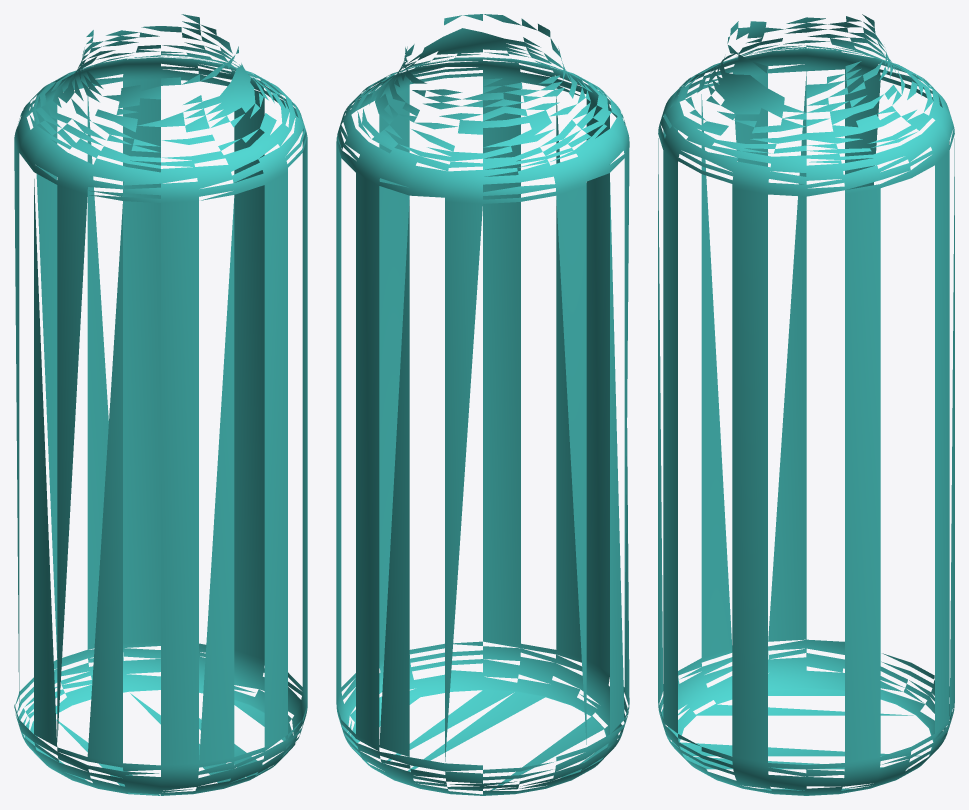
3 views of the same model, side by side, from view 1: azimuth 30°, elevation 25°; view 2: azimuth 150°, elevation 25°; view 3: azimuth 270°, elevation 25° (orthographic).
Size of the model in its own units: 0.4964 by 1.3 by 0.4964.
